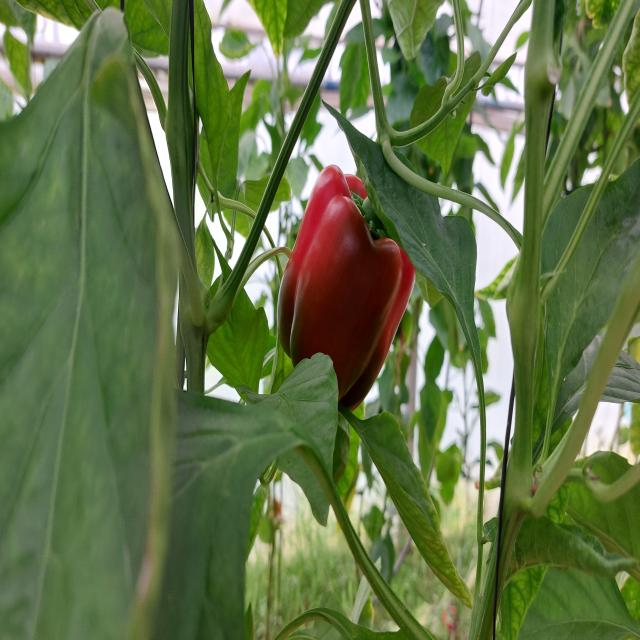Red-Ready-to-Harvest: (275, 162, 422, 423)
